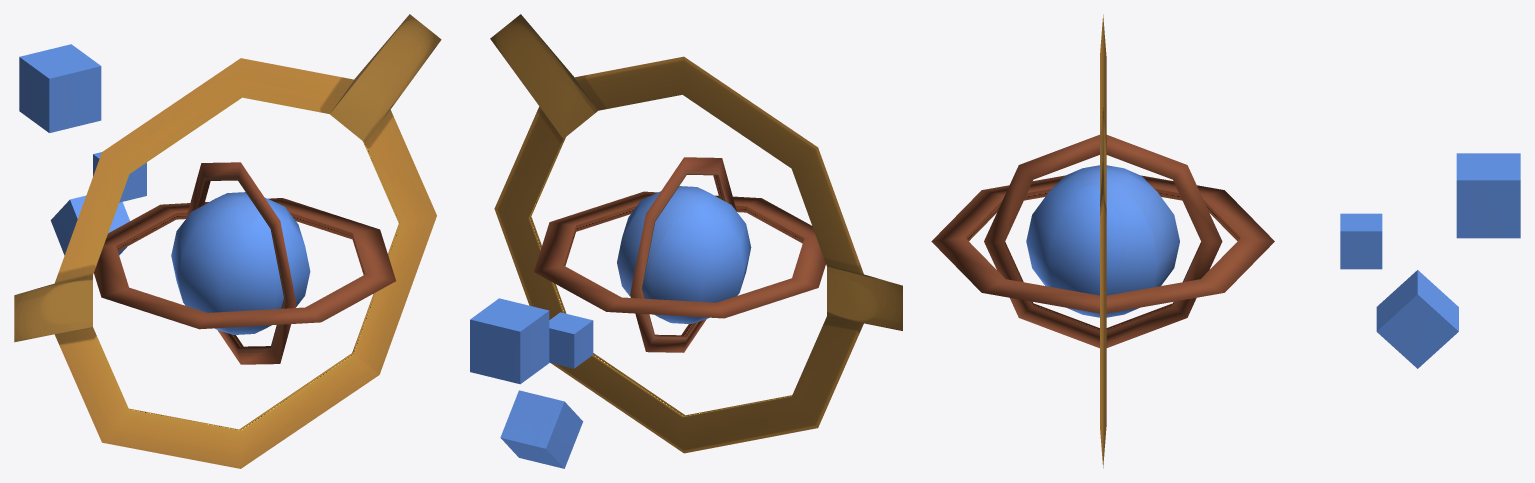
File: magnetcentral_Anvil.fbx
3 renders of one model, left to right at view 1: azimuth 30°, elevation 25°; view 2: azimuth 150°, elevation 25°; view 3: azimuth 270°, elevation 25°, orthographic. The views are drawn at different scales.
Parts seen in each view (by area): view 1: polySurface9; view 2: polySurface9; view 3: polySurface9.
Part boxes in pixels (bbox=[...]): polySurface9: bbox=[14, 14, 441, 468]; polySurface9: bbox=[470, 14, 902, 468]; polySurface9: bbox=[931, 14, 1520, 468].
Bounding box in the file's own units: 7.24 × 6.7 × 8.1.
